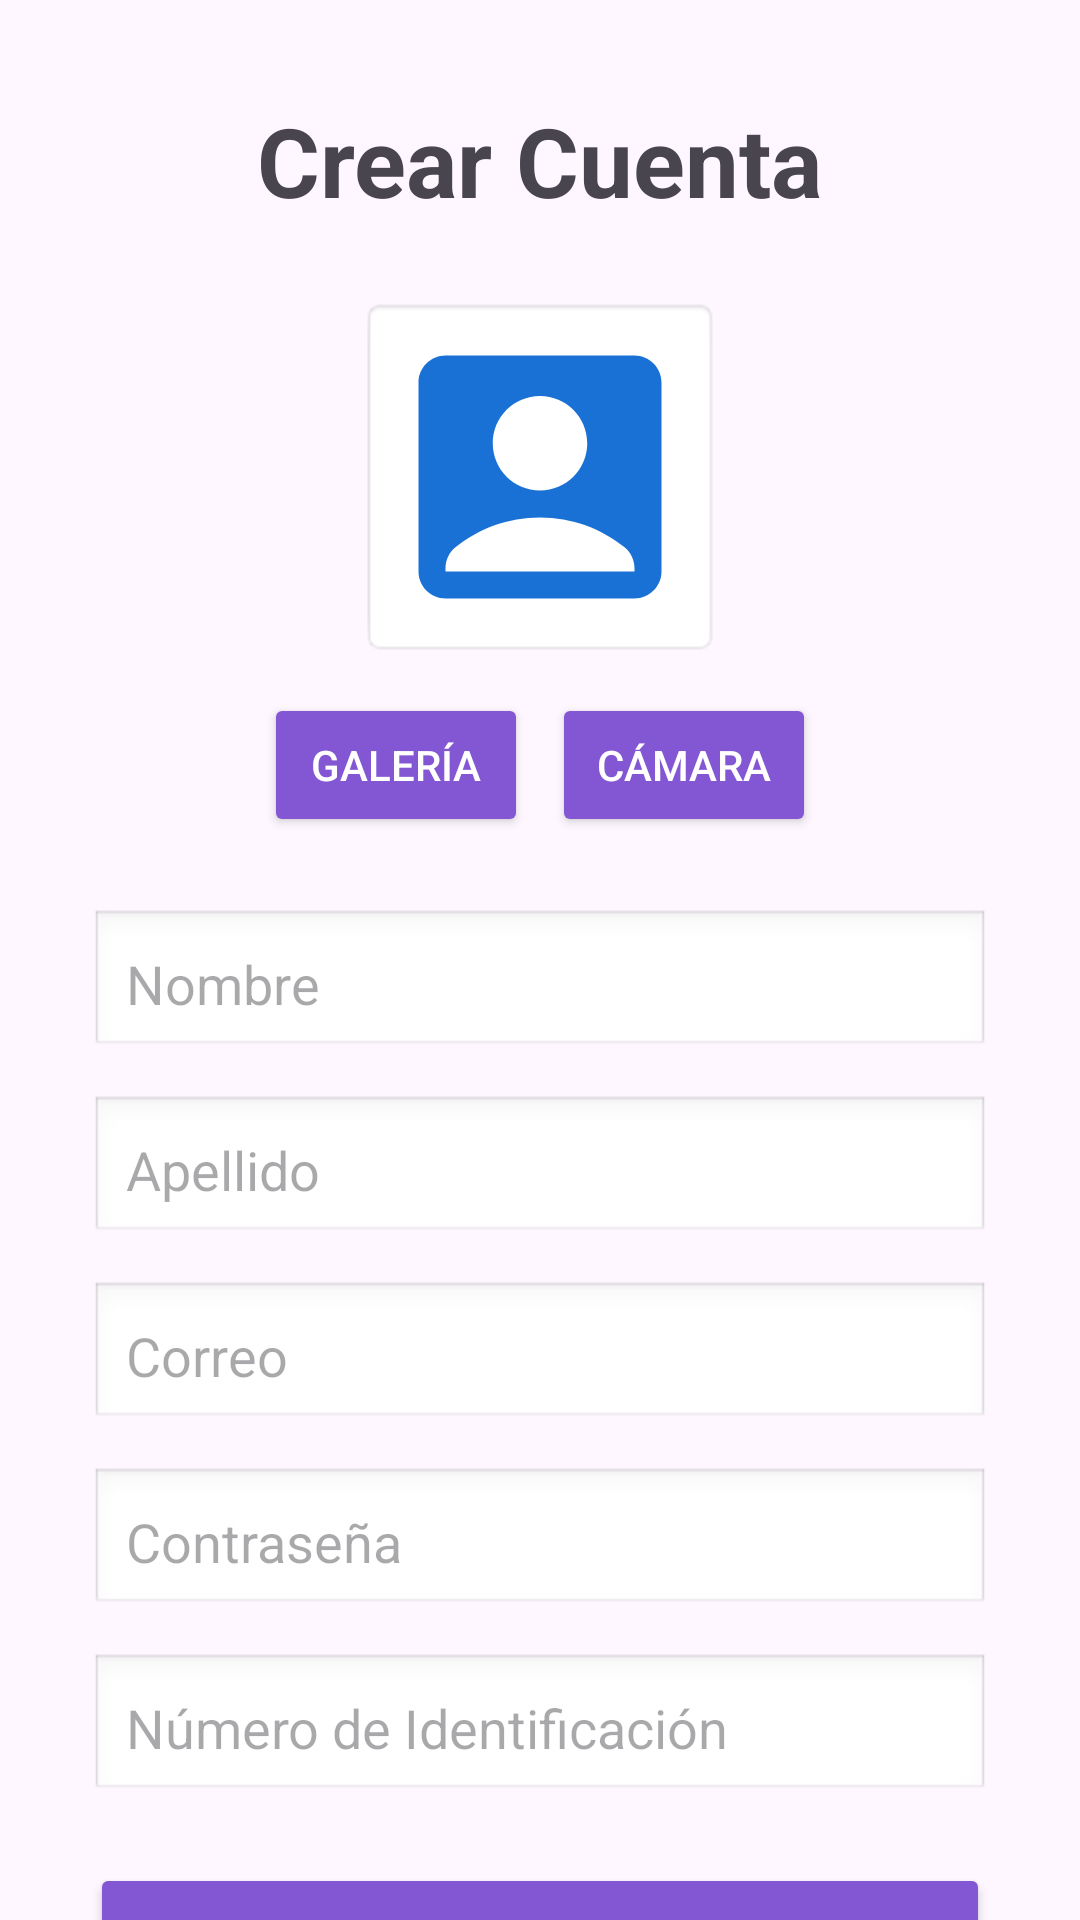

Icon click points for this 1080 × 1920 phone screenshot, format point (x, y):
Foto de perfil: point (540, 477)
